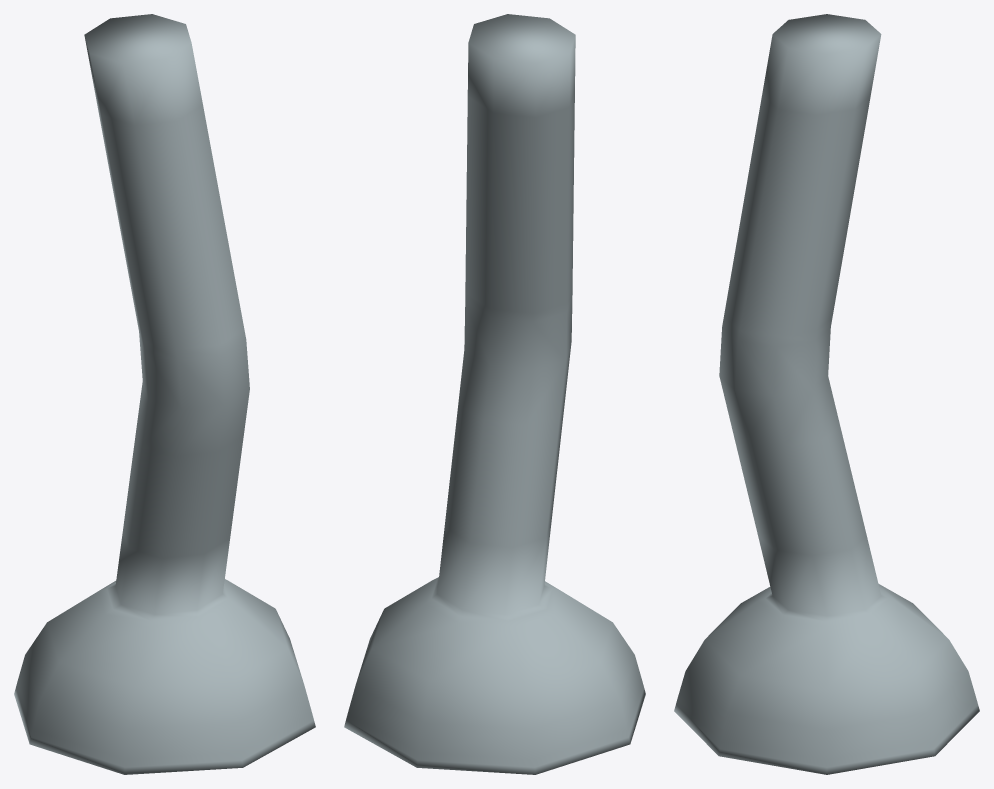
The model's file is piernaIzquierda.obj.
3 views of the same model, side by side, from view 1: azimuth 30°, elevation 25°; view 2: azimuth 150°, elevation 25°; view 3: azimuth 270°, elevation 25° (orthographic). The views are drawn at different scales.
Visible parts, largest first — view 1: Object004; view 2: Object004; view 3: Object004.
Part boxes in pixels (box(x1,y1,x2,y2)): Object004: box(14, 14, 315, 774); Object004: box(344, 14, 645, 774); Object004: box(674, 14, 979, 774).
Size of the model in its own units: 1.4 by 3.39 by 1.4.
